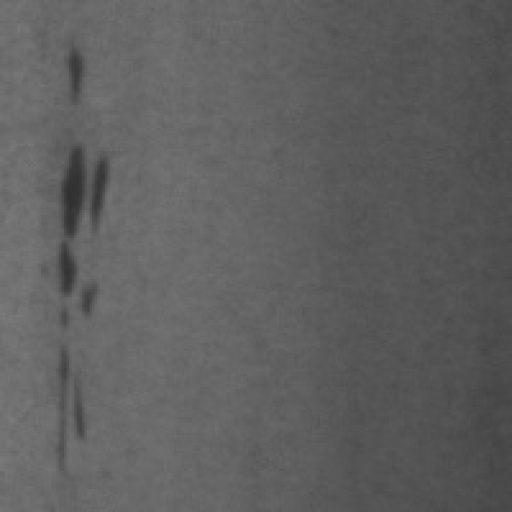inclusion: (47, 238, 107, 478), (56, 142, 115, 239), (57, 39, 94, 114)
